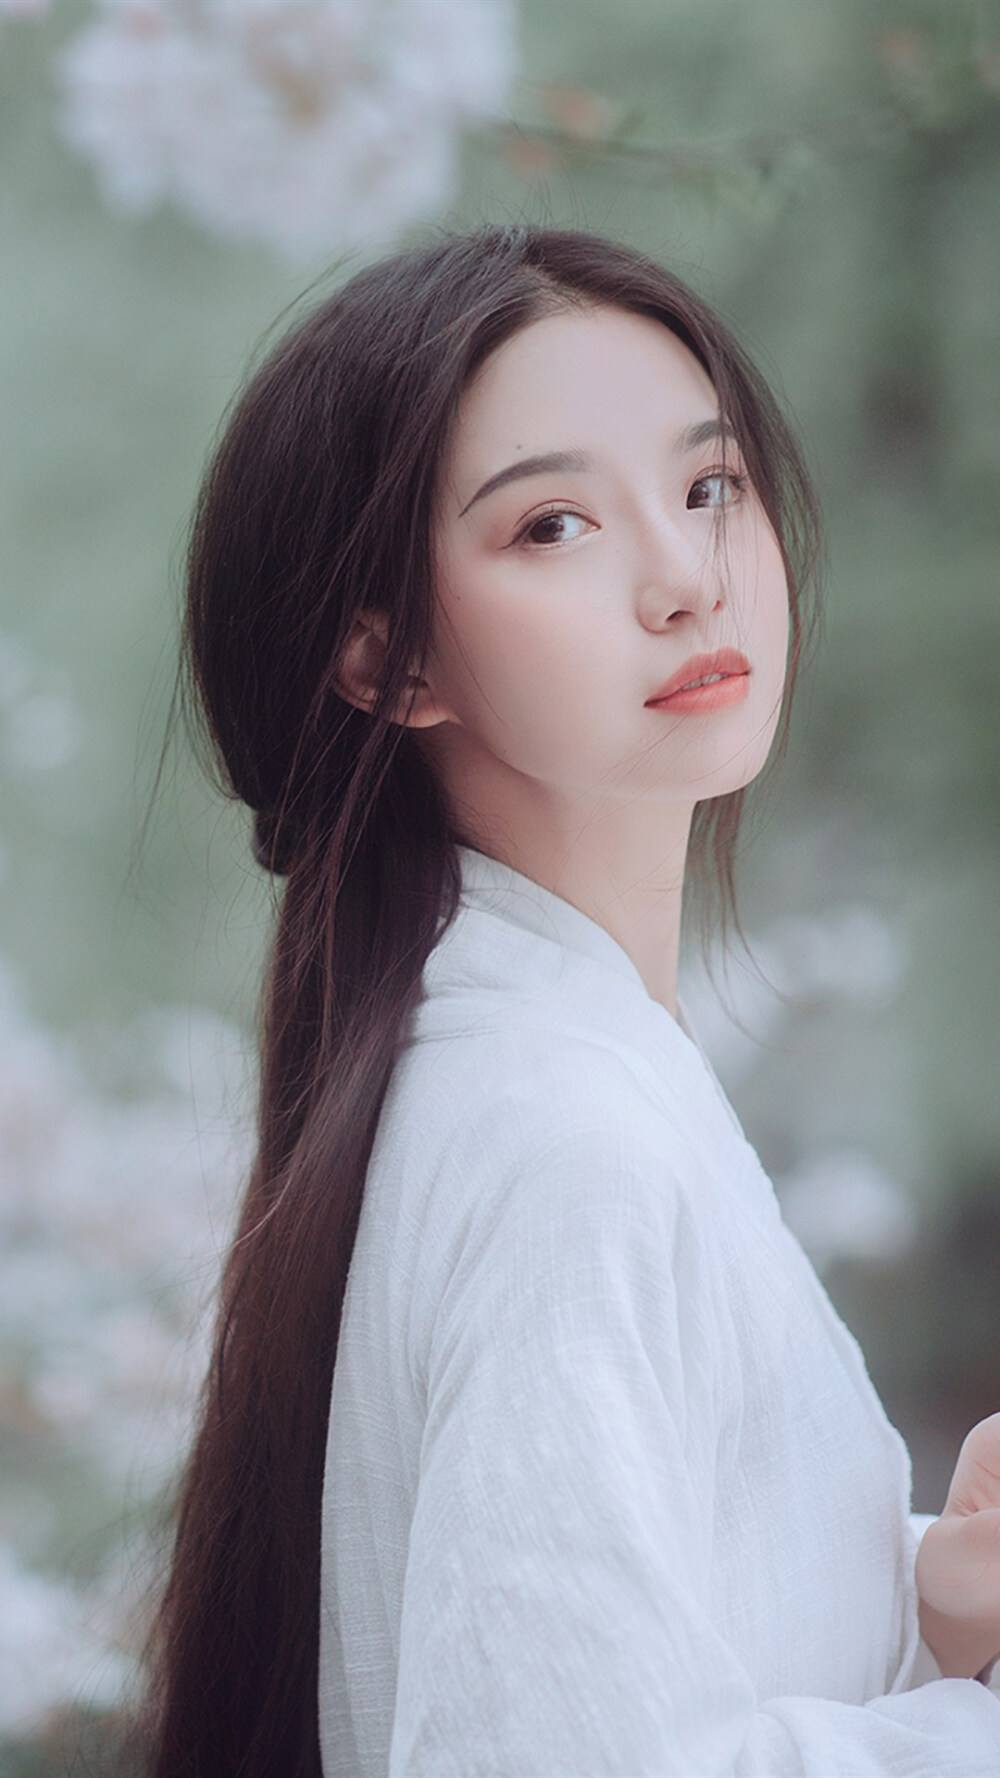person: (251, 296, 919, 1768)
